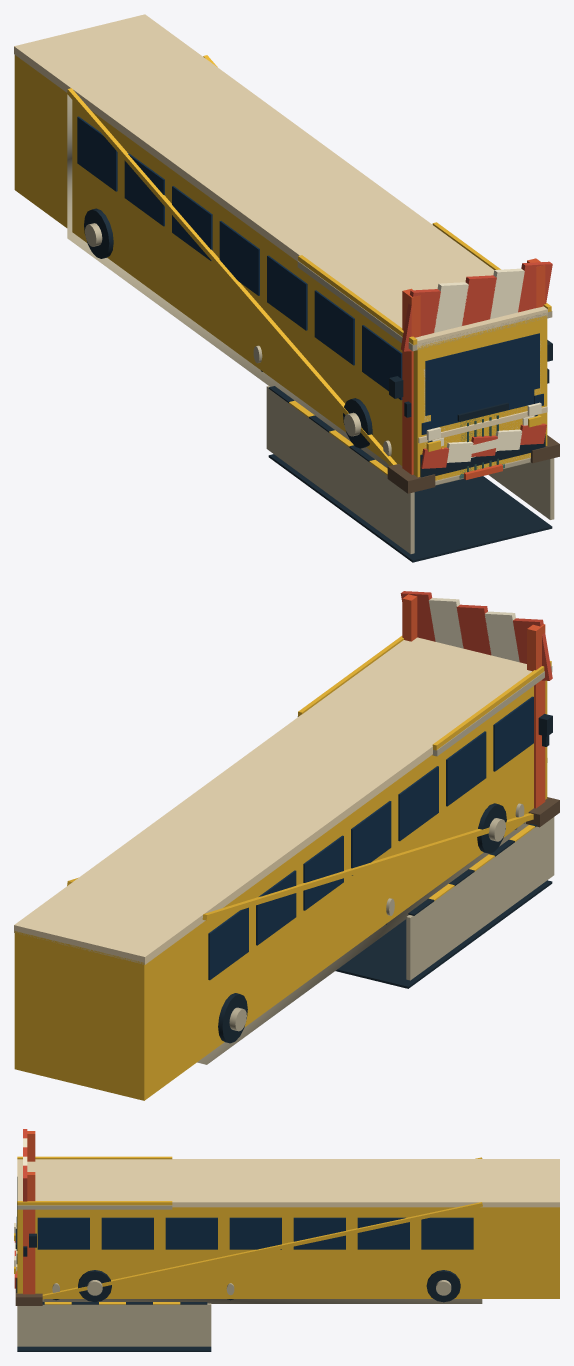
File: traffic.glb
The picture shows the model from 3 angles, top to bottom: view 1: azimuth 30°, elevation 25°; view 2: azimuth 150°, elevation 25°; view 3: azimuth 270°, elevation 25°; orthographic projection. The views are drawn at different scales.
Parts seen in each view (by area): view 1: bus, gap, high, ramp, low, roof, vehicle, trash; view 2: bus, gap, high, ramp, roof; view 3: bus, gap, ramp, high, roof.
Boxes of the visible parts, <box> form: bus: <box>14,14,552,480</box>; gap: <box>266,386,554,562</box>; high: <box>387,258,559,493</box>; ramp: <box>67,55,530,485</box>; low: <box>418,406,547,485</box>; roof: <box>297,222,552,351</box>; vehicle: <box>253,341,549,481</box>; trash: <box>457,402,508,478</box>; bus: <box>14,637,552,1100</box>; gap: <box>335,817,554,988</box>; high: <box>400,591,559,827</box>; ramp: <box>67,813,533,1064</box>; roof: <box>297,636,552,756</box>; bus: <box>14,1159,559,1302</box>; gap: <box>17,1302,211,1351</box>; ramp: <box>42,1157,482,1303</box>; high: <box>15,1129,42,1305</box>; roof: <box>17,1156,172,1209</box>.
Size of the model in its own units: 3.17 by 5.09 by 14.09.
